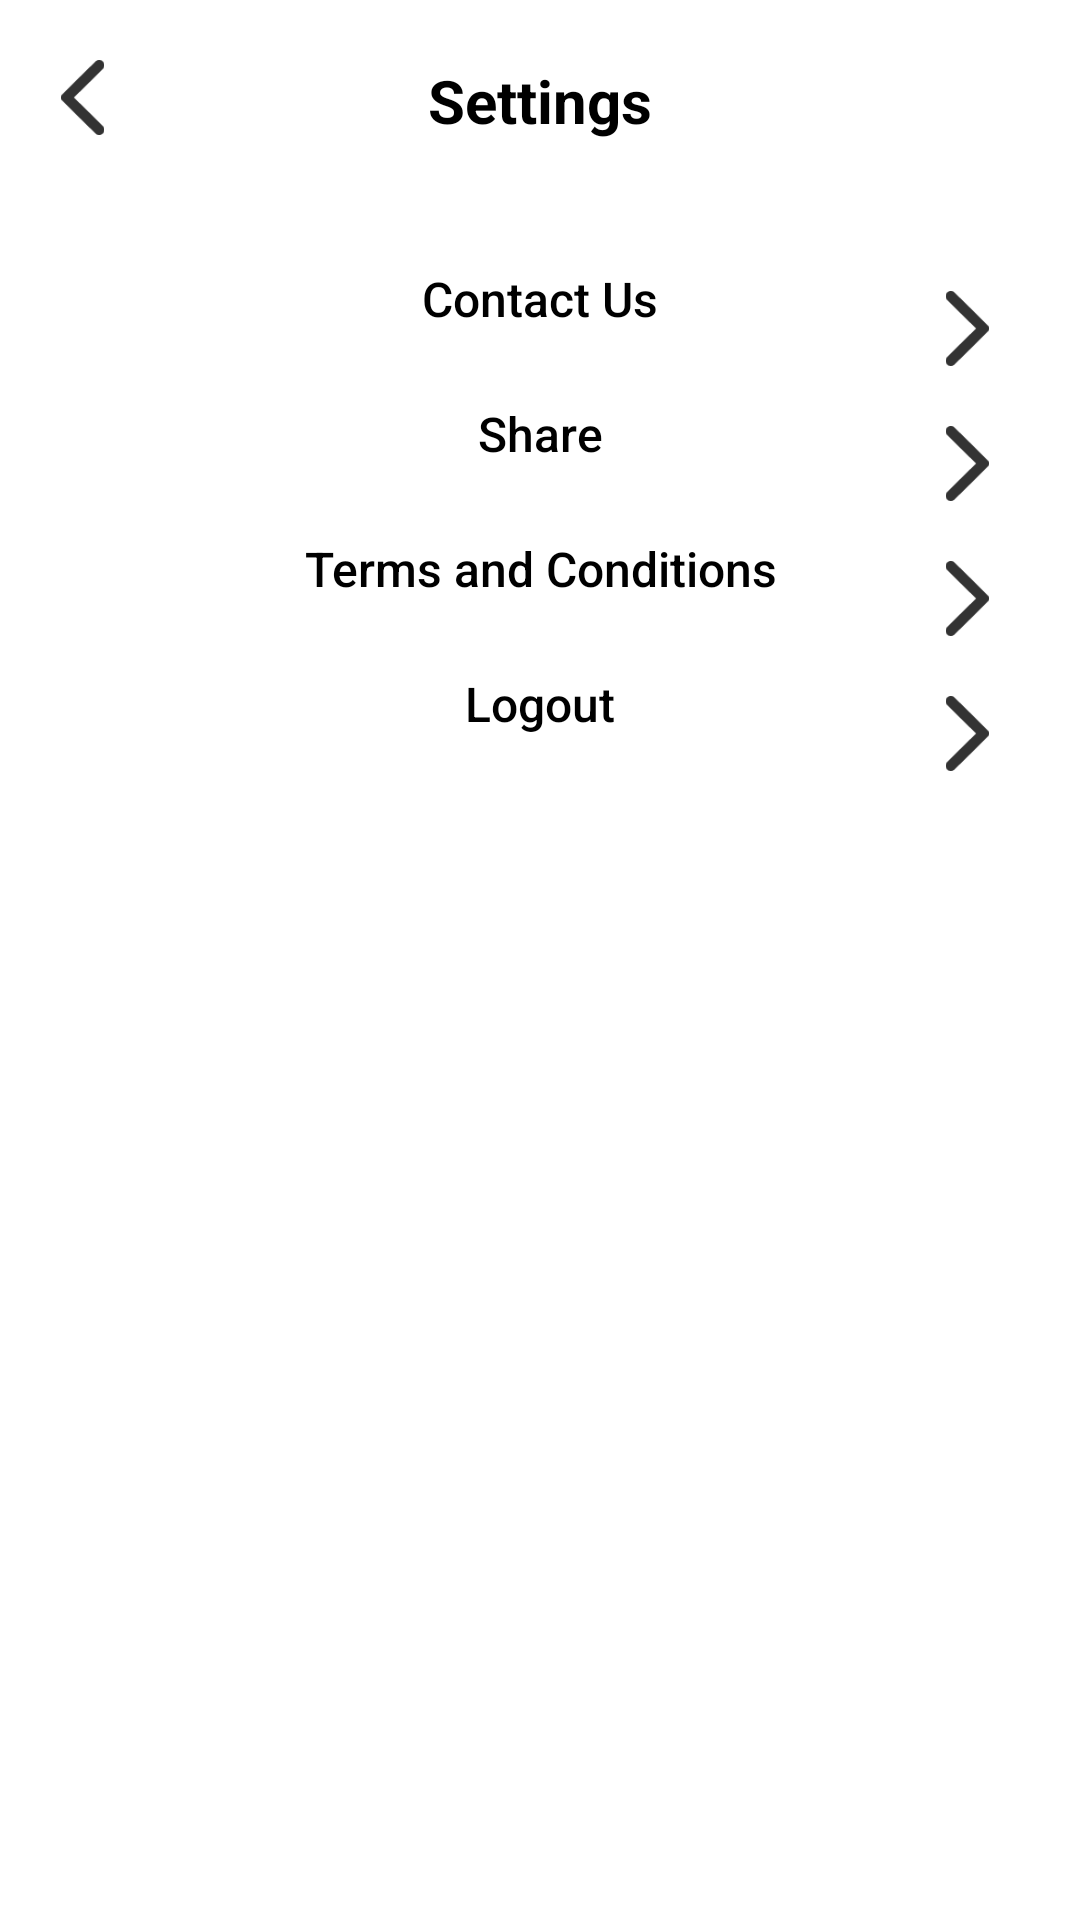

Icons on this 1080px×1920px Android screen, each with the point to tap as [x,y]:
arrow: [82,97]
arrow forward: [967,328], [967,463], [967,598], [967,733]
